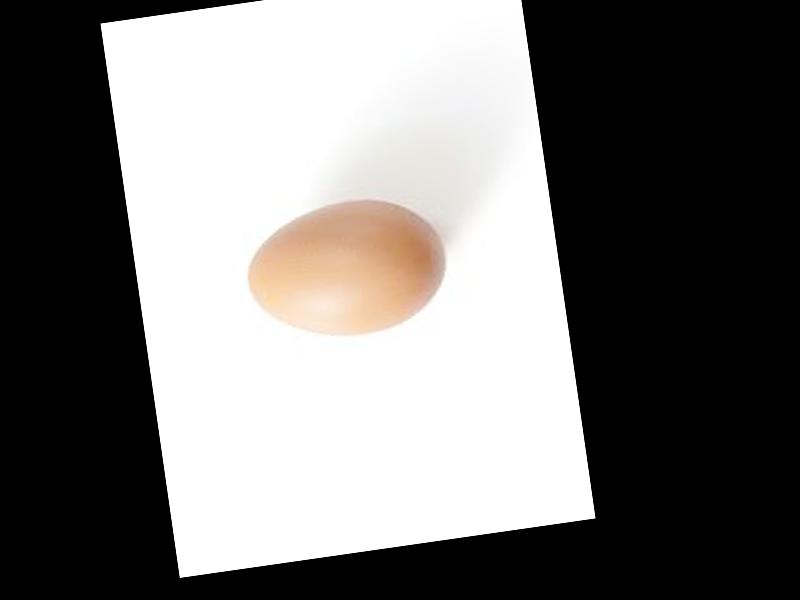Eggs: (237, 189, 453, 347)
